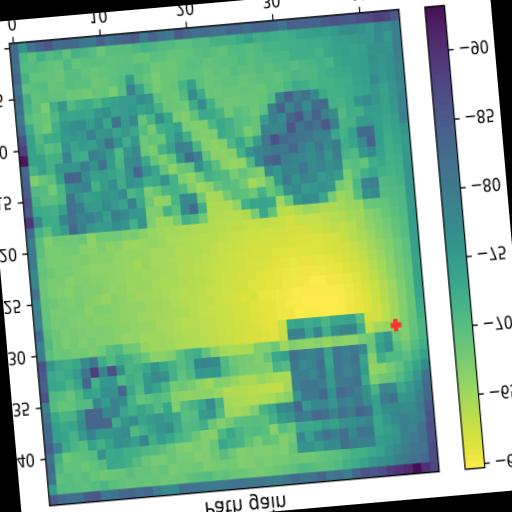Concrete: (287, 312, 376, 454)
Glass: (80, 350, 185, 472)
Metal: (248, 86, 350, 218)
Wood: (57, 94, 149, 236)
